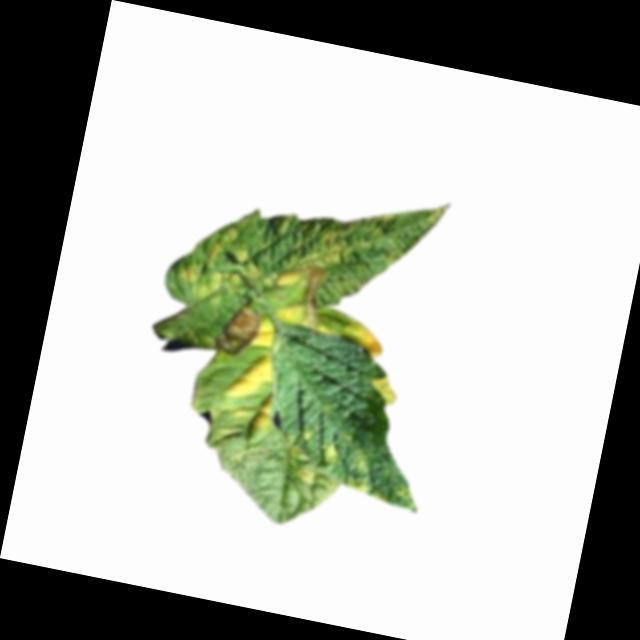Leaf_Mold: (172, 219, 263, 307), (282, 210, 360, 284), (219, 347, 279, 405), (339, 320, 388, 359), (237, 391, 277, 438), (339, 449, 377, 496), (274, 300, 312, 331), (247, 315, 276, 355), (366, 374, 400, 407), (286, 464, 316, 489), (316, 438, 340, 465)
